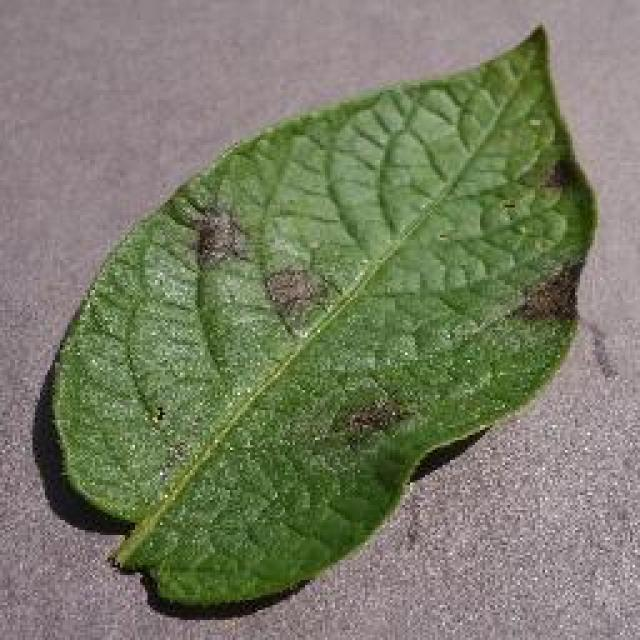late_blight: (42, 20, 600, 615)
